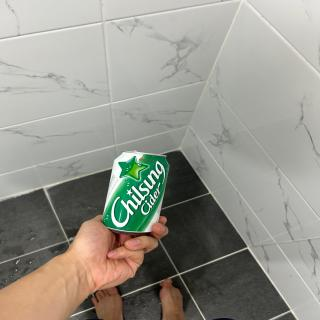chilsung: (99, 147, 172, 237)
